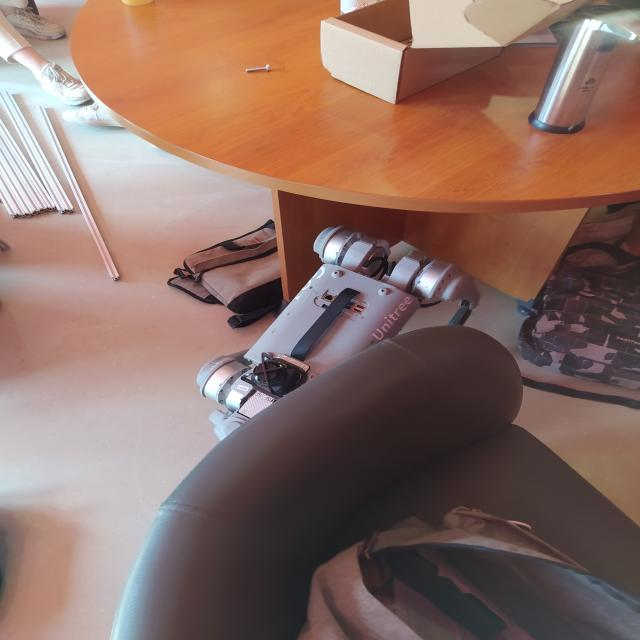unitree-go1-robot: (188, 218, 485, 452)
